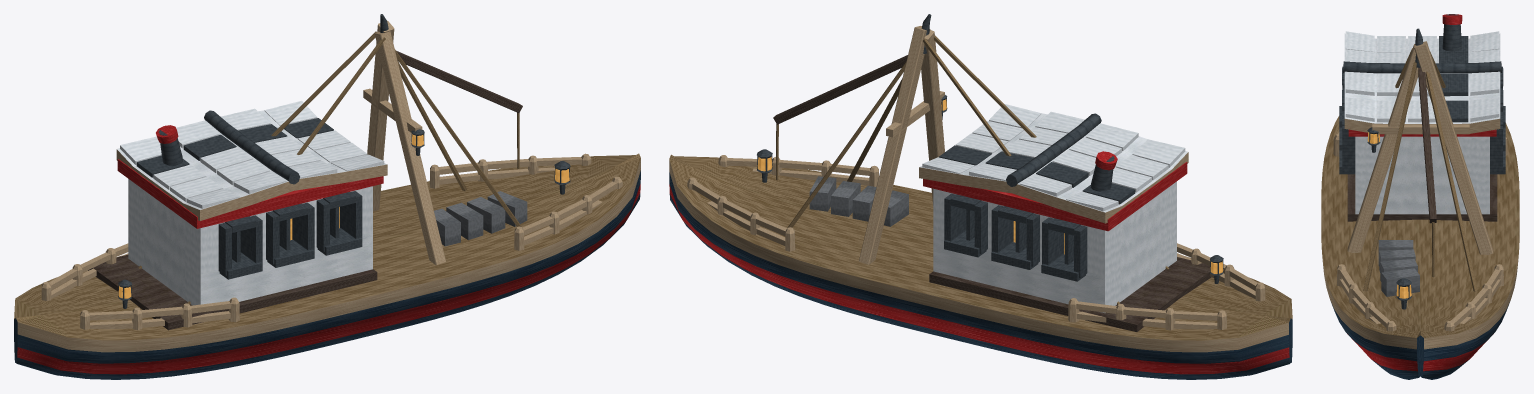
Rendered from nordic_trawler_mid.glb.
3 renders of one model, left to right at view 1: azimuth 30°, elevation 25°; view 2: azimuth 150°, elevation 25°; view 3: azimuth 270°, elevation 25°, orthographic. The views are drawn at different scales.
Visible parts, largest first — view 1: nordic_trawler_mid; view 2: nordic_trawler_mid; view 3: nordic_trawler_mid.
Part boxes in pixels (x1,y1,x2,y2): nordic_trawler_mid: [14, 14, 640, 379]; nordic_trawler_mid: [669, 14, 1292, 379]; nordic_trawler_mid: [1321, 14, 1519, 379].
Bounding box in the file's own units: 13.5 × 6.4 × 4.
2 materials, 2 textured.
